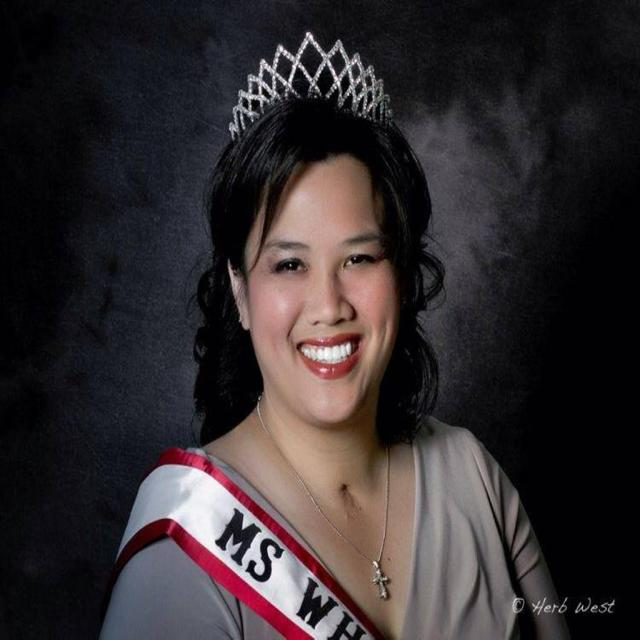Face: (219, 139, 413, 435)
